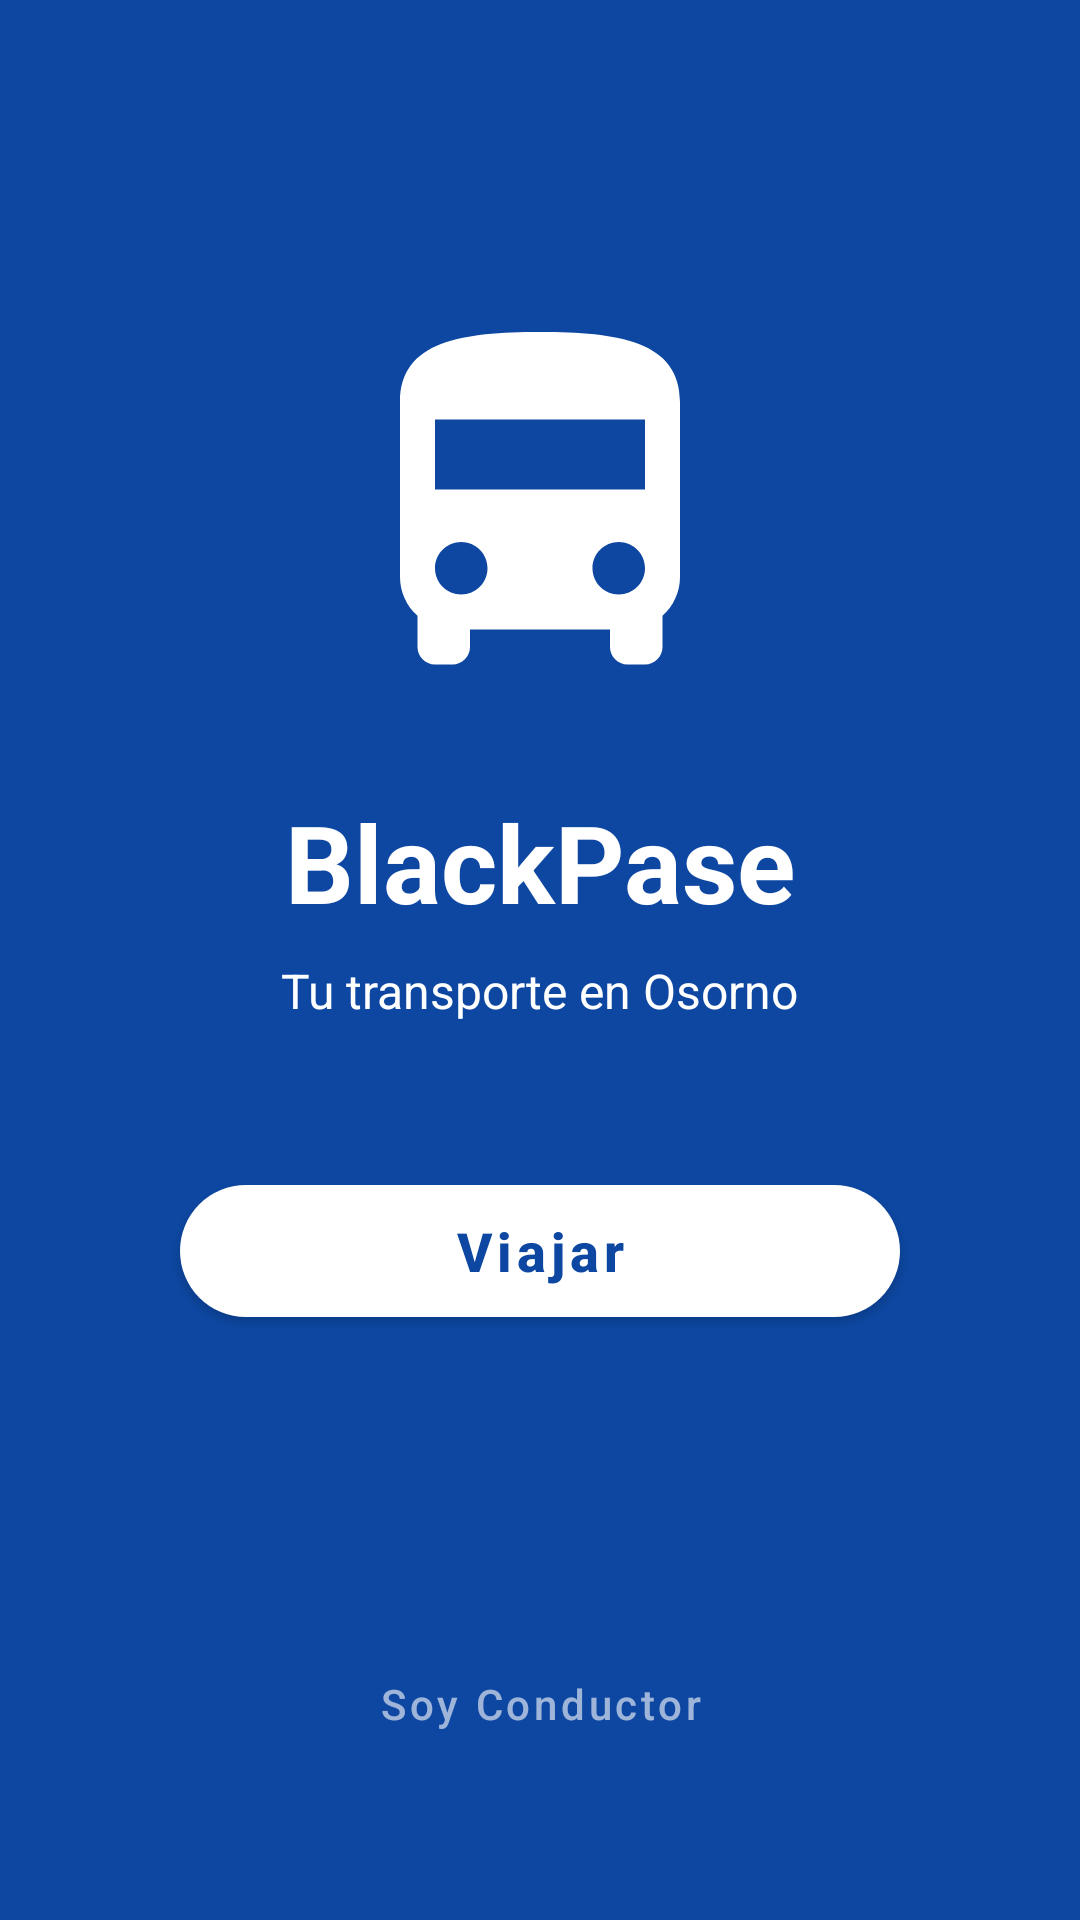

Locate icon controls on the screen. Image size 1080 × 1920, boxes as BBox(x1, y1, x2, y2).
directions bus: BBox(400, 332, 680, 665)
